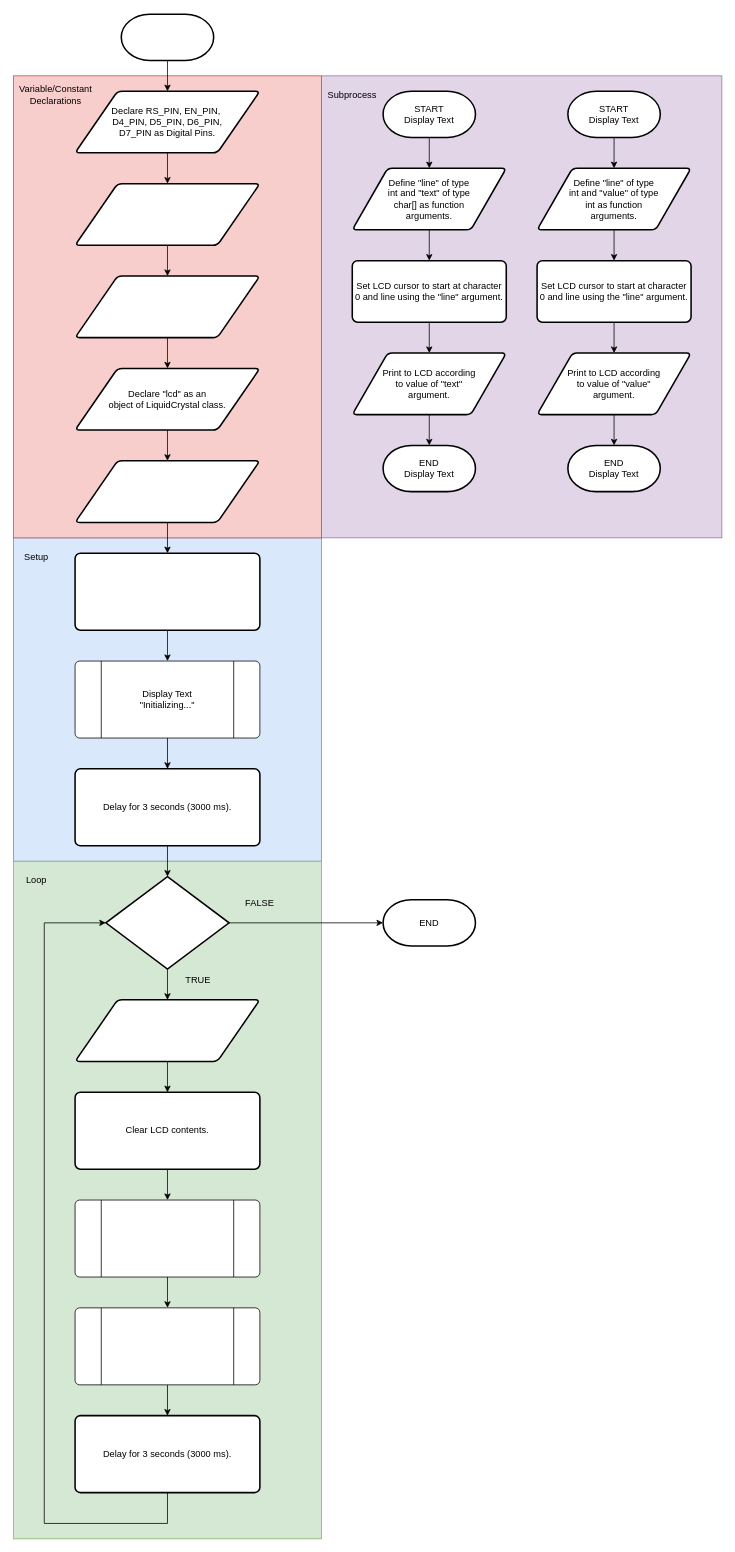
Some shapes in this 735 by 1552 pixel diagram are drawn without their labels. Here are the shapes that lost their labels. From the top down, the centre of each, then its label:
pixel 167 37: START
pixel 167 214: Declare CHARACTER_PER_LINE and MAX_LINES as LCD Constants.
pixel 167 306: Declare POT_PIN as Analog Input Pin.
pixel 167 491: Declare and Initialize potValue of type int to 0.
pixel 167 591: Define LCD definitions through CHARACTER_PER_LINE and MAX_LINES.
pixel 167 922: While Project is not turned off...
pixel 167 1030: Get analog value and store to "potValue" variable.
pixel 167 1238: Display Text "POT Value:"
pixel 167 1346: Display Text potValue
